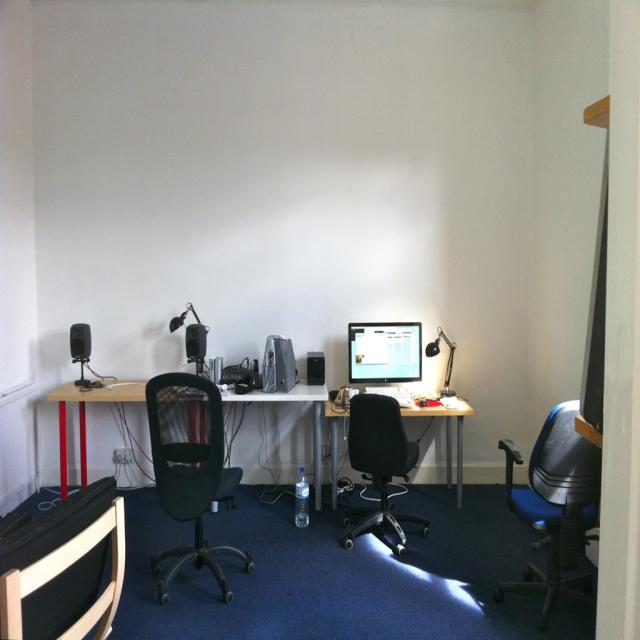chair: (146, 371, 255, 604), (493, 400, 601, 631), (0, 479, 124, 639), (341, 392, 431, 555)
desk: (324, 391, 474, 512)
tv: (348, 323, 423, 384)
